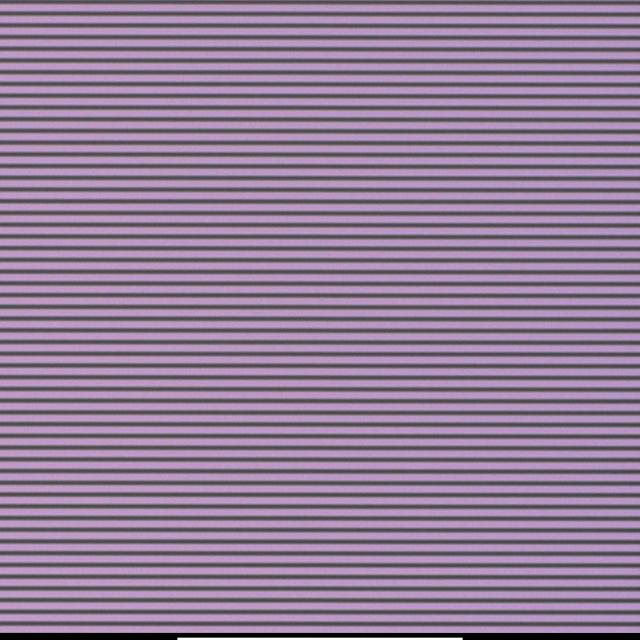nonvisual: (318, 292, 332, 304)
